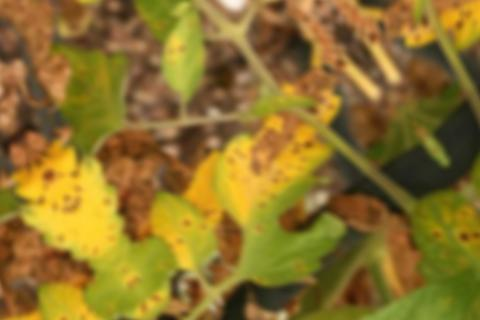Tomato Septoria leaf spot: (158, 50, 392, 274), (125, 173, 235, 287)
